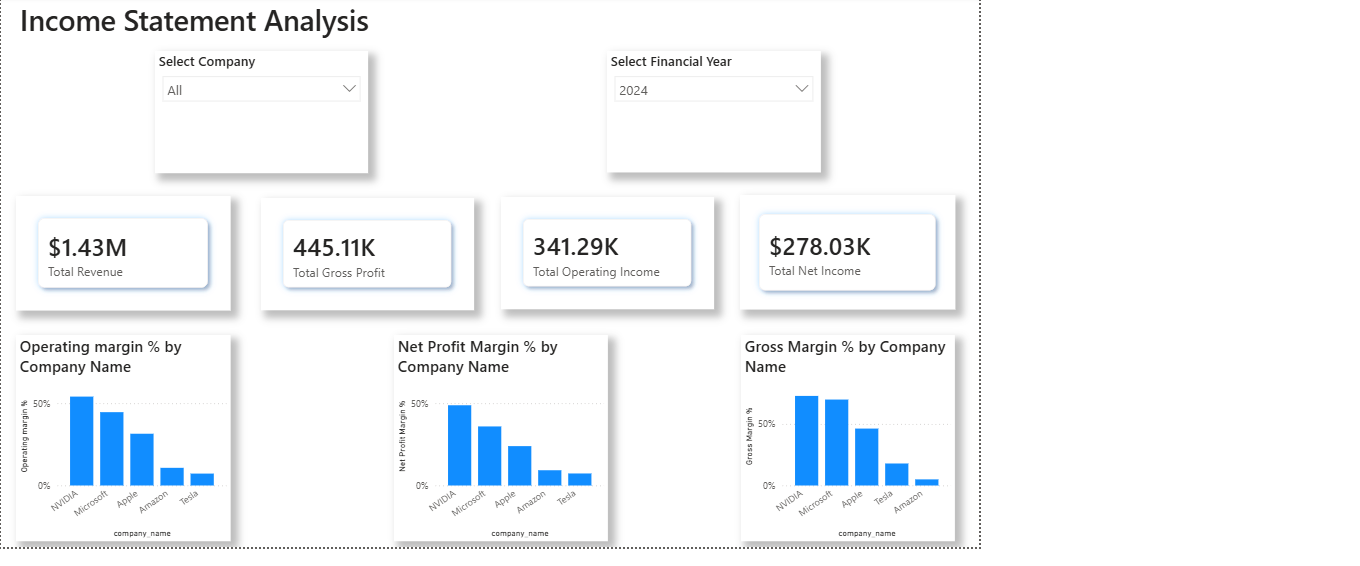

What the dashboard file says about the page in this screenshot:
{"tool":"powerbi","page":{"name":"Income Statement Analysis","canvas":[1280,720],"ordinal":1},"visuals":[{"type":"clusteredColumnChart","title":"Operating margin % by Company Name","fields":{"Category":["dim_company.company_name"],"Y":["measures (2).Operating margin %"]},"box":[20.2,442.1,280.8,270],"z":0},{"type":"clusteredColumnChart","title":"Net Profit Margin % by Company Name","fields":{"Y":["measures (2).Net Profit Margin %"],"Category":["dim_company.company_name"]},"box":[514.4,442.6,280.3,270],"z":1000},{"type":"clusteredColumnChart","title":"Gross Margin % by Company Name","fields":{"Category":["dim_company.company_name"],"Y":["measures (2).Gross Margin %"]},"box":[969,442.6,280.3,270],"z":2000},{"type":"textbox","box":[20.2,0,774.7,70.6],"z":3000},{"type":"slicer","title":"Select Company","fields":{"Values":["dim_company.company_name"]},"box":[201.6,70.6,279.4,159.8],"z":3001},{"type":"slicer","title":"Select Financial Year","fields":{"Values":["dim_date.finacial_year"]},"box":[793,70.1,280.3,158.9],"z":3002},{"type":"cardVisual","fields":{"Data":["measures (2).Total Revenue"]},"box":[20.2,260.6,280.8,149.8],"z":3003},{"type":"cardVisual","fields":{"Data":["measures (2).Total Net Income"]},"box":[967.3,259.8,282,150.4],"z":3004},{"type":"cardVisual","fields":{"Data":["measures (2).Total Operating Income"]},"box":[654.5,261.5,278.6,147],"z":3005},{"type":"cardVisual","fields":{"Data":["measures (2).Total Gross Profit"]},"box":[340.1,263.2,278.6,147],"z":3006}]}

Visuals, with their boxes on the page's 1280x720 design canvas (x1, y1, x2, y2). These are canvas units, not pixel positions in the 1360x566 screenshot, which may show the page scaled, cropped or inside an application window:
"Operating margin % by Company Name" clusteredColumnChart: box(20, 442, 301, 712)
"Net Profit Margin % by Company Name" clusteredColumnChart: box(514, 443, 795, 713)
"Gross Margin % by Company Name" clusteredColumnChart: box(969, 443, 1249, 713)
textbox: box(20, 0, 795, 71)
"Select Company" slicer: box(202, 71, 481, 230)
"Select Financial Year" slicer: box(793, 70, 1073, 229)
cardVisual - measures (2).Total Revenue: box(20, 261, 301, 410)
cardVisual - measures (2).Total Net Income: box(967, 260, 1249, 410)
cardVisual - measures (2).Total Operating Income: box(654, 262, 933, 408)
cardVisual - measures (2).Total Gross Profit: box(340, 263, 619, 410)
